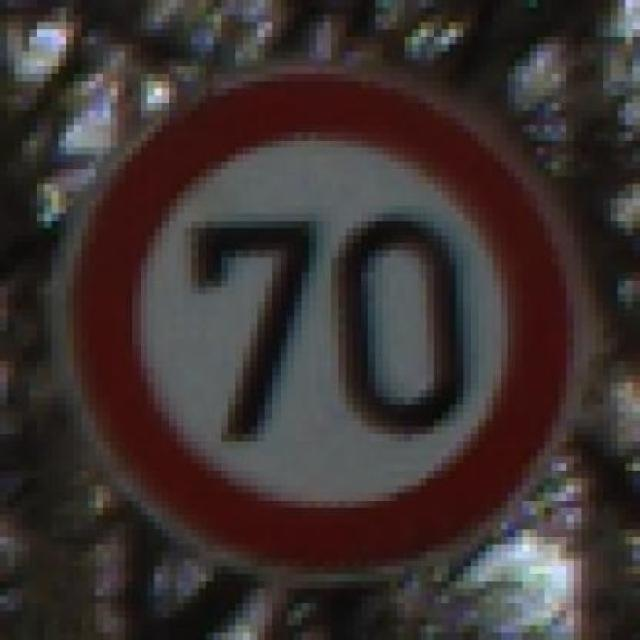forb_speed_over_70: (64, 69, 582, 583)
